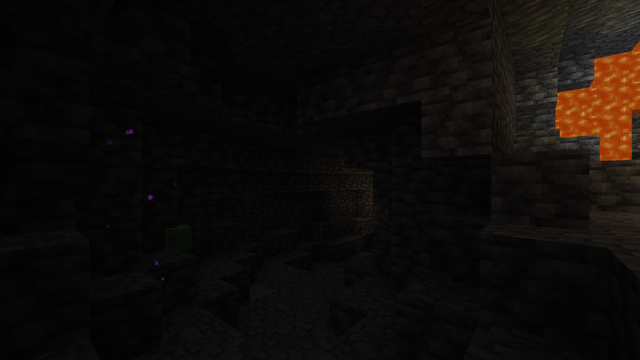slimes: (163, 223, 193, 251)
